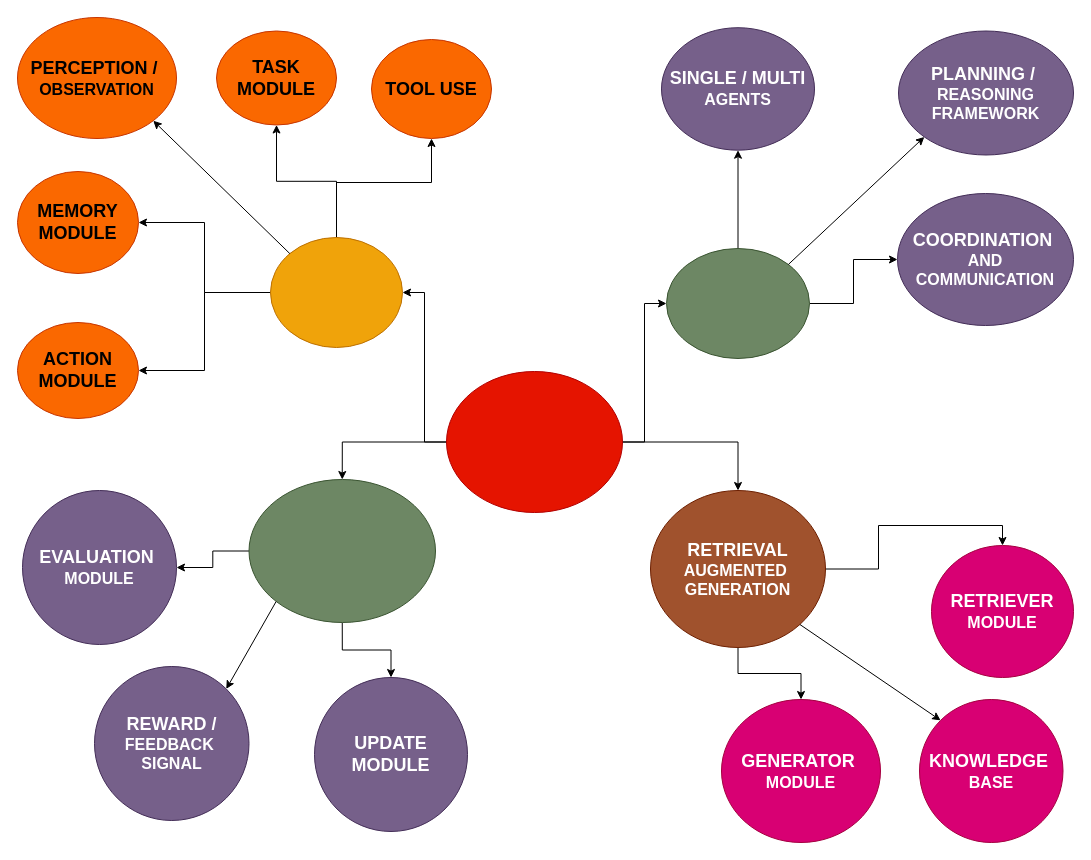
The diagram is 1091 pixels wide and 860 high, and some of its shapes have lost their labels. Here are the shapes that lost their labels. From the top down, the box of each, then its label:
(270, 236, 402, 348): AGENT
(666, 248, 810, 358): AGENTIC PATTERN
(446, 370, 622, 512): AGENTIC RAG
(248, 478, 436, 622): REINFORCEMENT LEARNING
